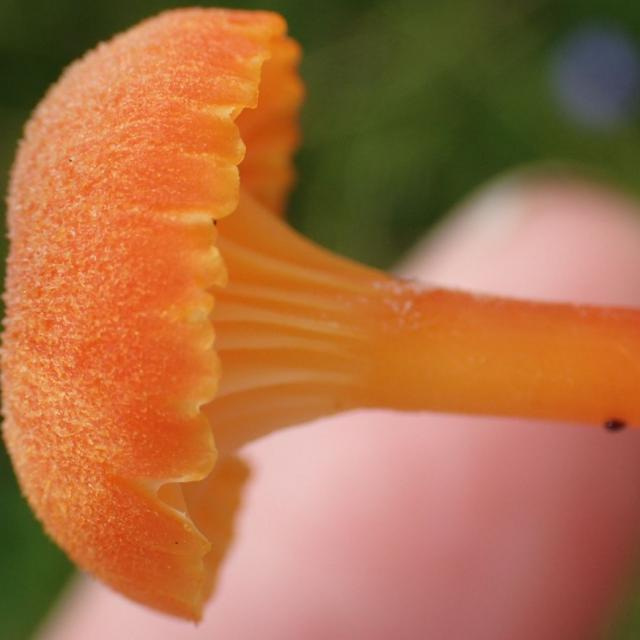Cantharellus cibarius: (5, 6, 639, 627)
